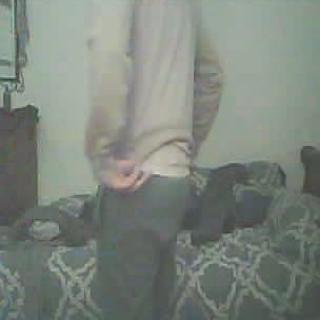Blue Sweatpants: (98, 177, 184, 320)
Yellow Hoodie: (90, 0, 210, 173)
